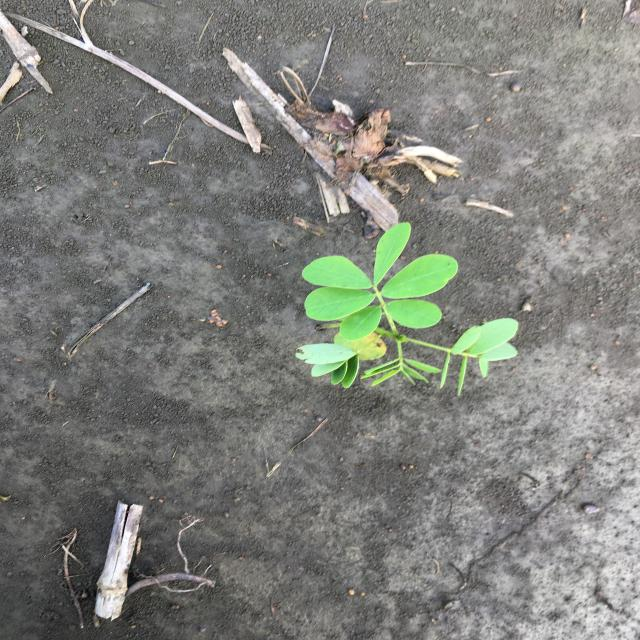Sicklepod: (291, 219, 524, 395)
